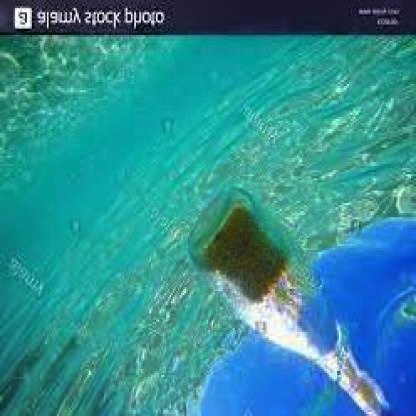gbottle: (193, 186, 387, 416)
